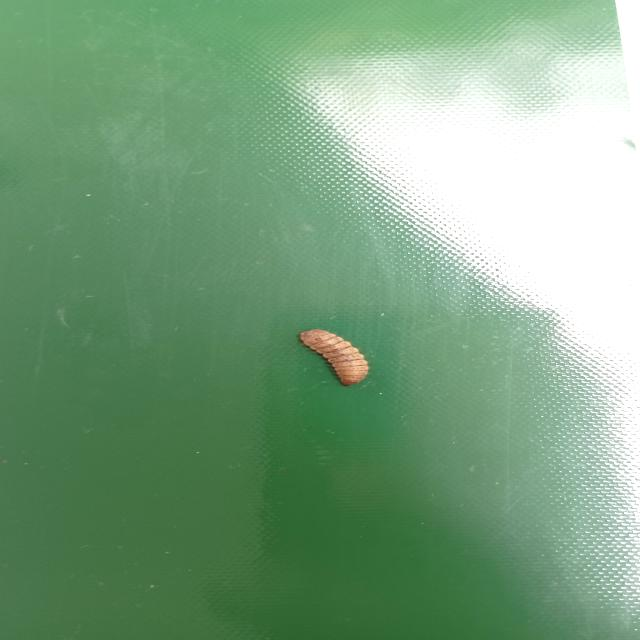Maggot: (298, 330, 370, 388)
